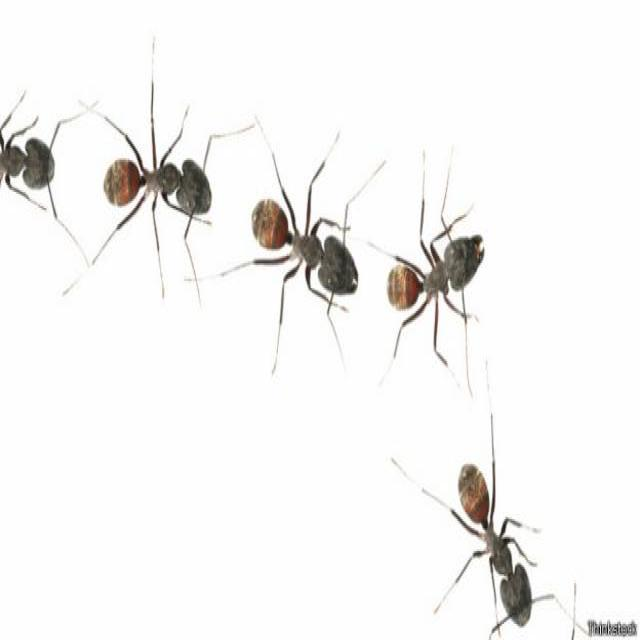ants: (421, 435, 552, 637), (98, 98, 217, 263), (379, 189, 493, 354), (247, 164, 360, 310), (0, 86, 66, 250)
